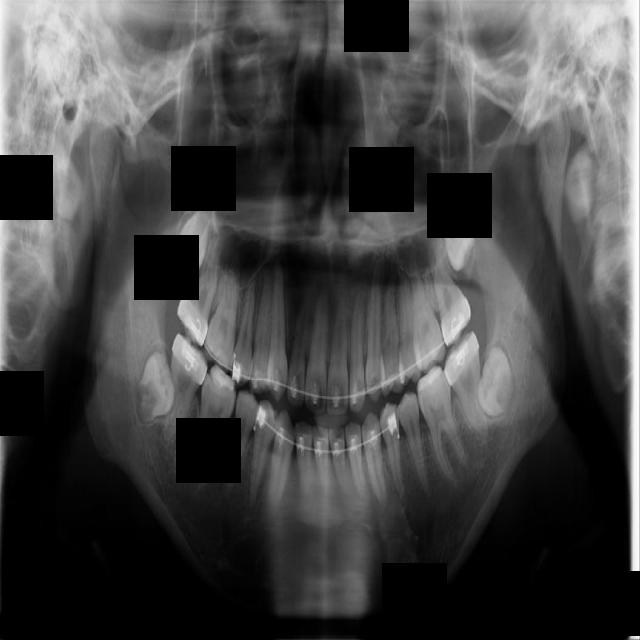3M ESPE Implant: (171, 199, 215, 280)
52: (152, 328, 220, 395), (430, 327, 494, 394), (429, 291, 481, 350), (171, 287, 217, 350), (410, 317, 450, 376), (201, 364, 236, 419), (417, 365, 451, 421)
73: (588, 528, 592, 534)
BioHorizons Implant: (422, 228, 477, 348)
BioLife Implant: (434, 204, 482, 275)
Biomet 3i Implant: (470, 344, 524, 423)
Blue Sky Bio Implant: (439, 327, 490, 444)
Caries: (169, 227, 230, 349)
Implant: (161, 332, 211, 447)
Keystone Dental Implant: (134, 350, 177, 424)
